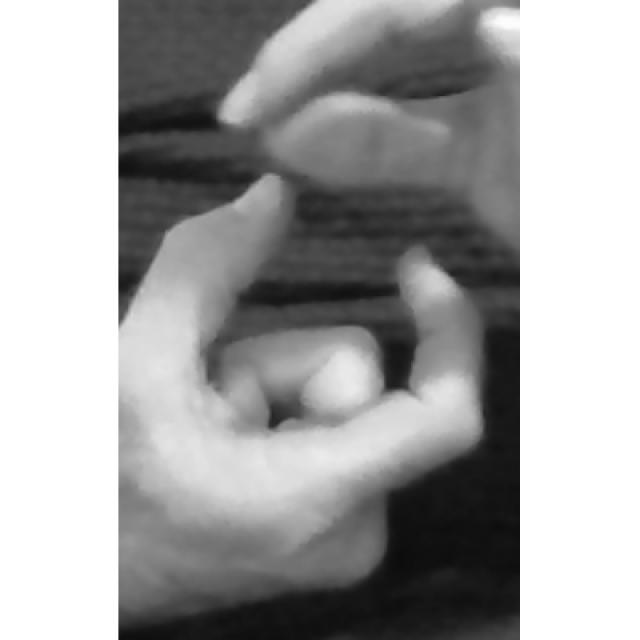U--: (118, 1, 519, 622)
